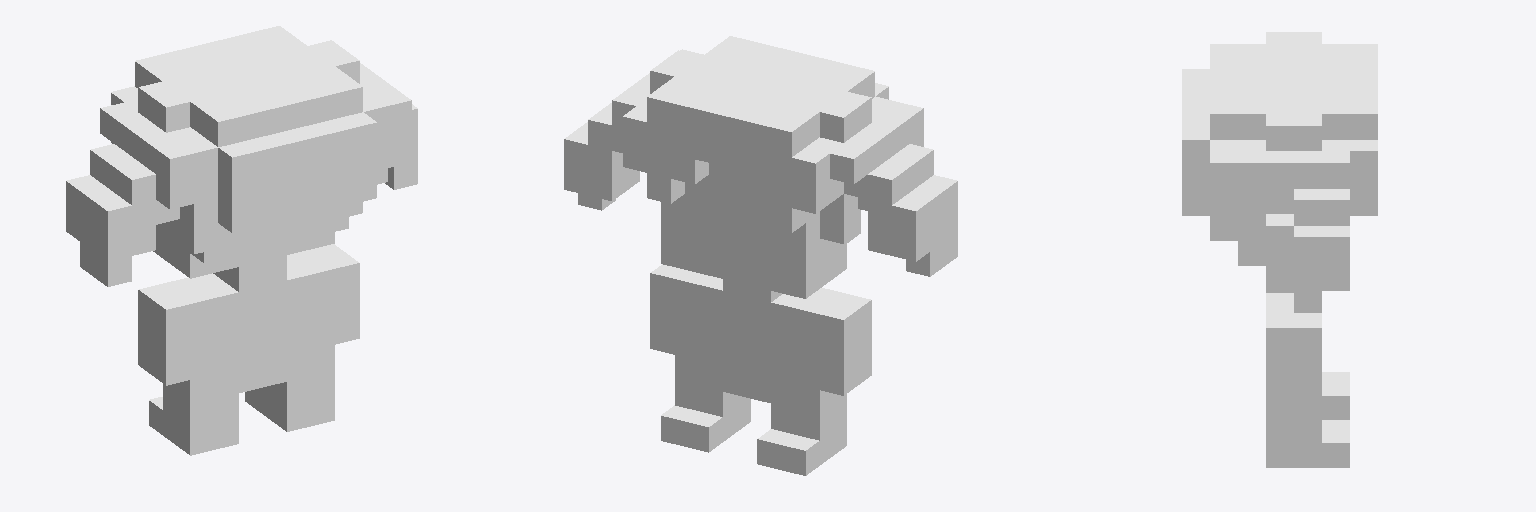
Rendered from crianca2.obj.
3 renders of one model, left to right at view 1: azimuth 30°, elevation 25°; view 2: azimuth 150°, elevation 25°; view 3: azimuth 270°, elevation 25°, orthographic.
Parts seen in each view (by area): view 1: object 1; view 2: object 1; view 3: object 1.
Boxes of the visible parts, x1,y1,x2,y2 form: object 1: [66, 26, 417, 455]; object 1: [564, 36, 957, 475]; object 1: [1182, 32, 1377, 467].
Bounding box in the file's own units: 1.4 × 1.4 × 0.7.